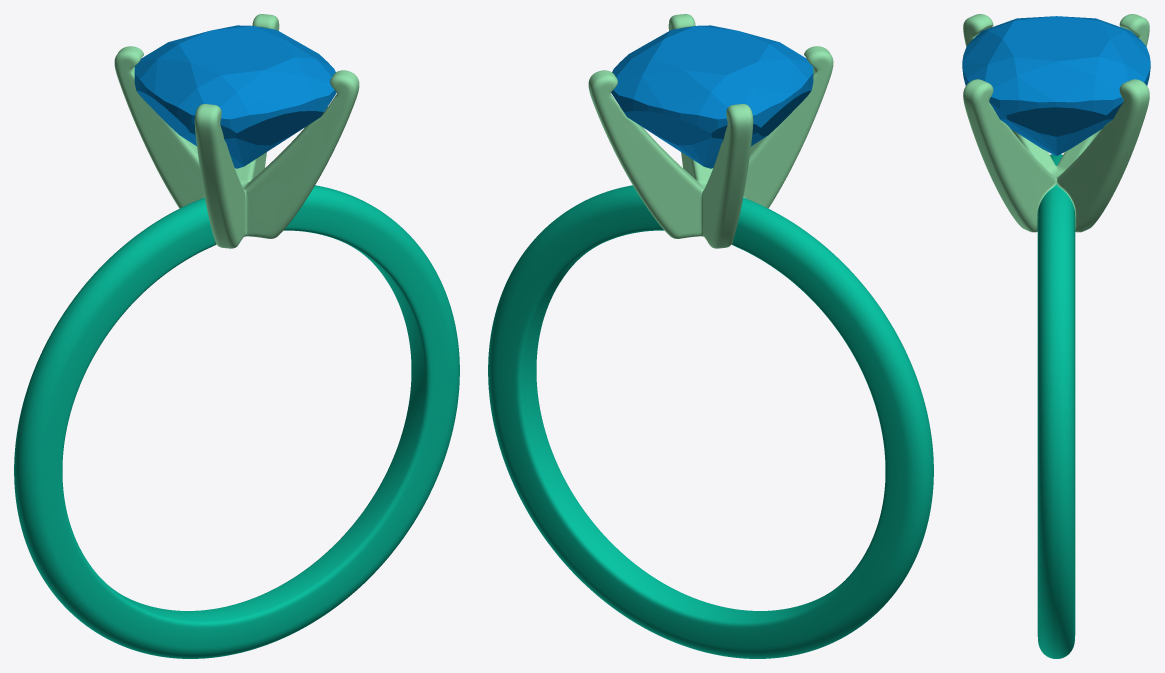
Rendered from BE1199_CU_200ct_RENDER.glb.
3 renders of one model, left to right at view 1: azimuth 30°, elevation 25°; view 2: azimuth 150°, elevation 25°; view 3: azimuth 270°, elevation 25°, orthographic.
Parts seen in each view (by area): view 1: Metal 01, CS_Diamond_Cushion Square, Metal 02; view 2: Metal 01, CS_Diamond_Cushion Square, Metal 02; view 3: Metal 01, CS_Diamond_Cushion Square, Metal 02.
Boxes of the visible parts, box(x1,y1,x2,y2) form: Metal 01: box(14, 185, 459, 658); CS_Diamond_Cushion Square: box(134, 25, 336, 168); Metal 02: box(114, 14, 359, 248); Metal 01: box(488, 185, 933, 658); CS_Diamond_Cushion Square: box(611, 25, 813, 168); Metal 02: box(588, 14, 833, 248); Metal 01: box(1037, 154, 1075, 658); CS_Diamond_Cushion Square: box(962, 16, 1150, 155); Metal 02: box(963, 14, 1149, 232).
Size of the model in its own units: 20.11 by 26.2 by 7.5.
